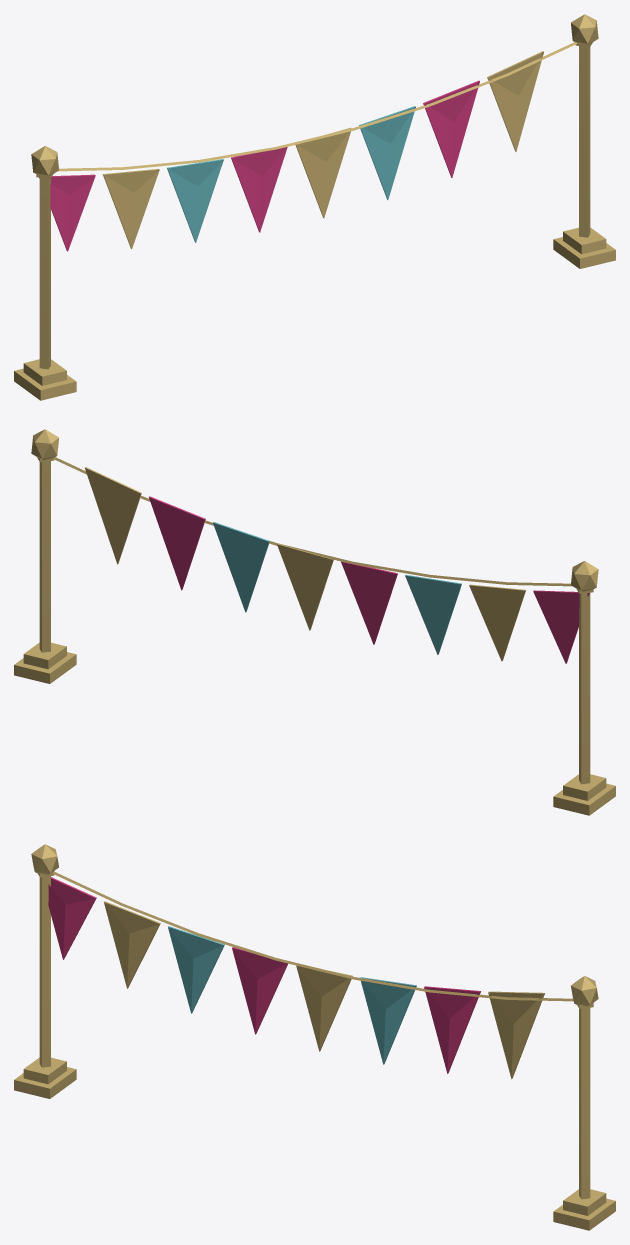
File: bunting.glb
The picture shows the model from 3 angles, top to bottom: view 1: azimuth 30°, elevation 25°; view 2: azimuth 150°, elevation 25°; view 3: azimuth 330°, elevation 25°; orthographic projection.
Visible parts, largest first — view 1: flag_mesh, root_mesh; view 2: flag_mesh, root_mesh; view 3: flag_mesh, root_mesh.
Part boxes in pixels (<box>): flag_mesh: <box>39,51,543,251</box>; root_mesh: <box>14,14,615,400</box>; flag_mesh: <box>84,467,589,663</box>; root_mesh: <box>14,429,615,815</box>; flag_mesh: <box>48,877,544,1079</box>; root_mesh: <box>14,844,615,1230</box>.
Size of the model in its own units: 2.5 by 1 by 0.2.
